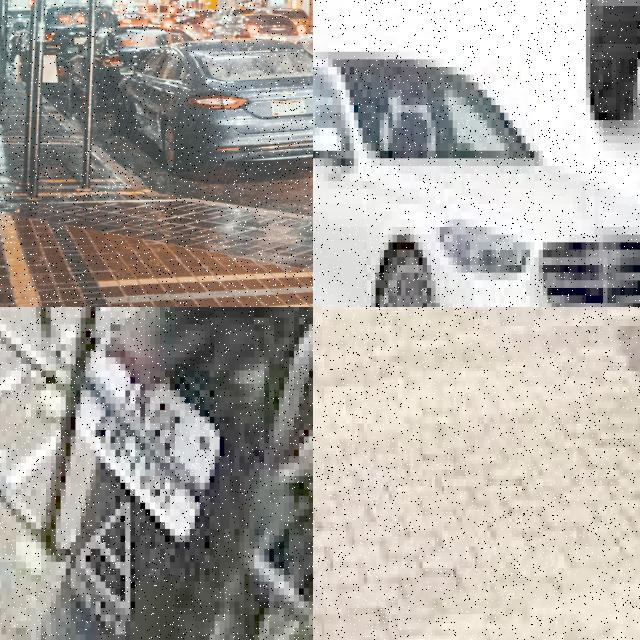bike: (46, 307, 313, 640)
car: (313, 0, 640, 307), (113, 28, 313, 189), (513, 0, 640, 135), (231, 6, 313, 43), (302, 18, 313, 75)
